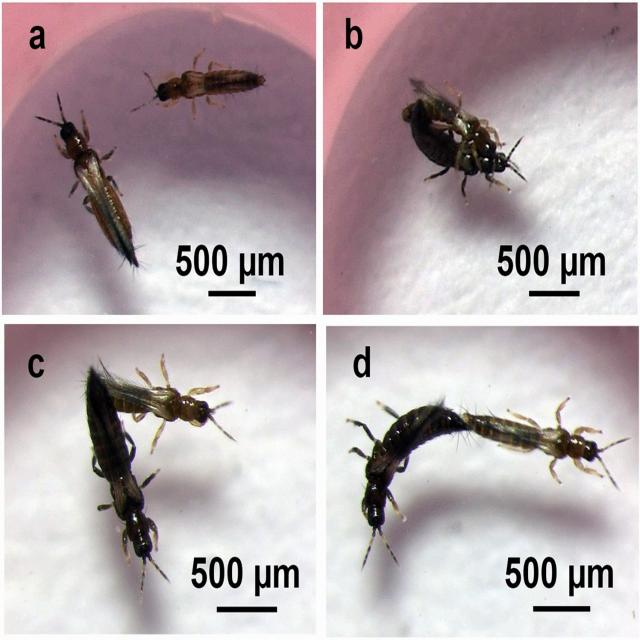Thrip-Adult-: (66, 359, 177, 592), (344, 399, 473, 582), (28, 85, 147, 273), (461, 386, 624, 490), (76, 365, 231, 435), (121, 44, 269, 108)
